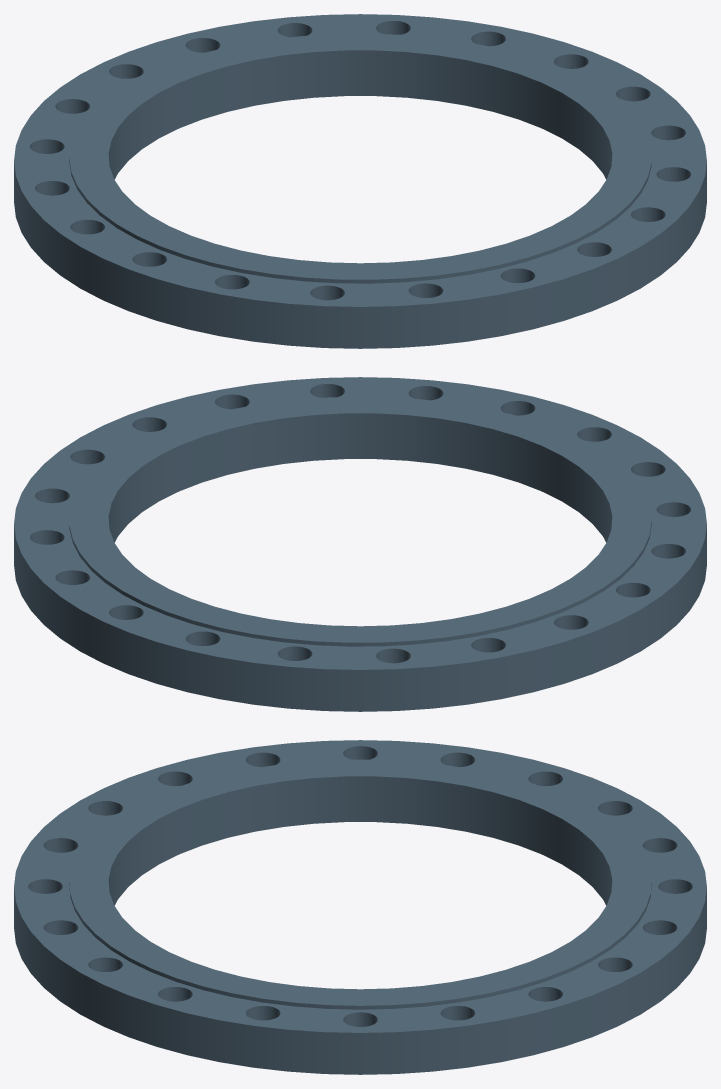
File: flanec-ploskij-DN450-PN25.glb
The picture shows the model from 3 angles, top to bottom: view 1: azimuth 30°, elevation 25°; view 2: azimuth 150°, elevation 25°; view 3: azimuth 270°, elevation 25°; orthographic projection.
Parts seen in each view (by area): view 1: Open CASCADE STEP translator 7.9 51; view 2: Open CASCADE STEP translator 7.9 51; view 3: Open CASCADE STEP translator 7.9 51.
Part boxes in pixels (bbox=[...]): Open CASCADE STEP translator 7.9 51: bbox=[14, 14, 706, 348]; Open CASCADE STEP translator 7.9 51: bbox=[14, 377, 706, 711]; Open CASCADE STEP translator 7.9 51: bbox=[14, 740, 706, 1074].
Size of the model in its own units: 660 by 48 by 660.
